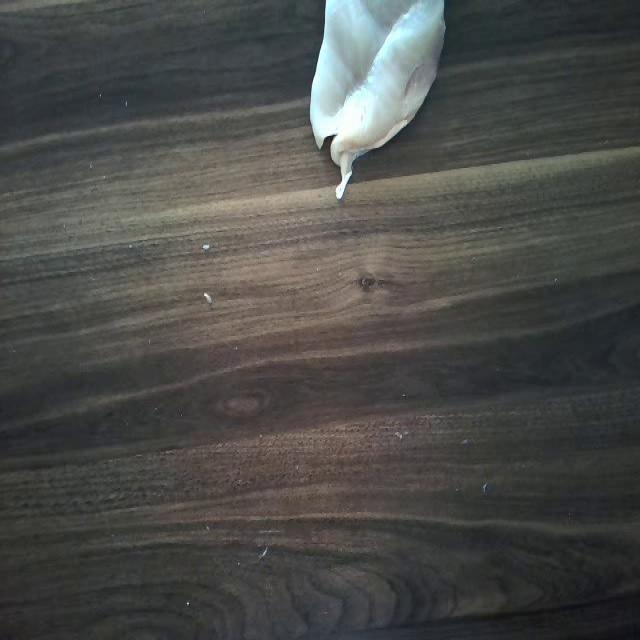breast: (311, 0, 454, 171)
